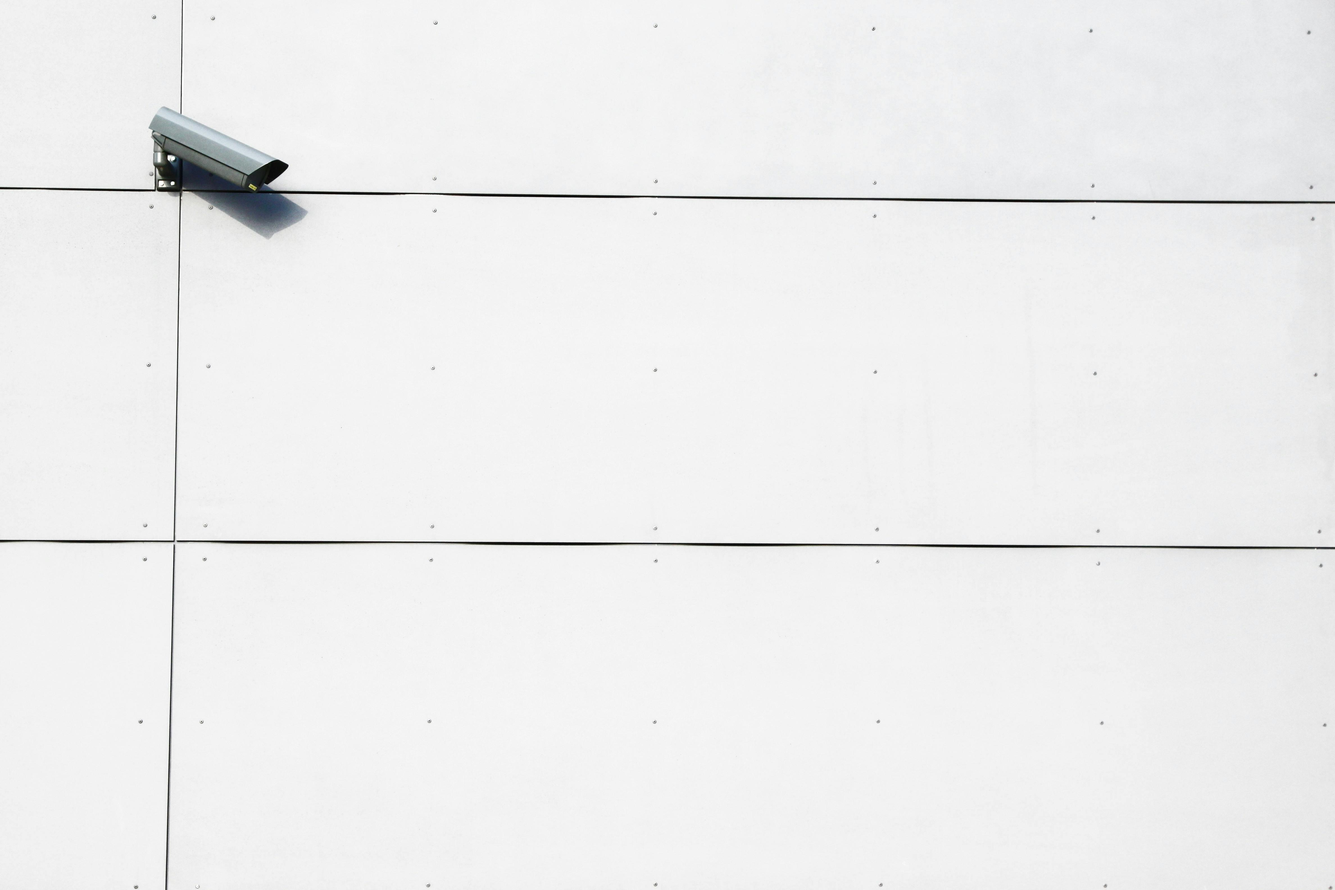camera: (87, 96, 332, 242)
